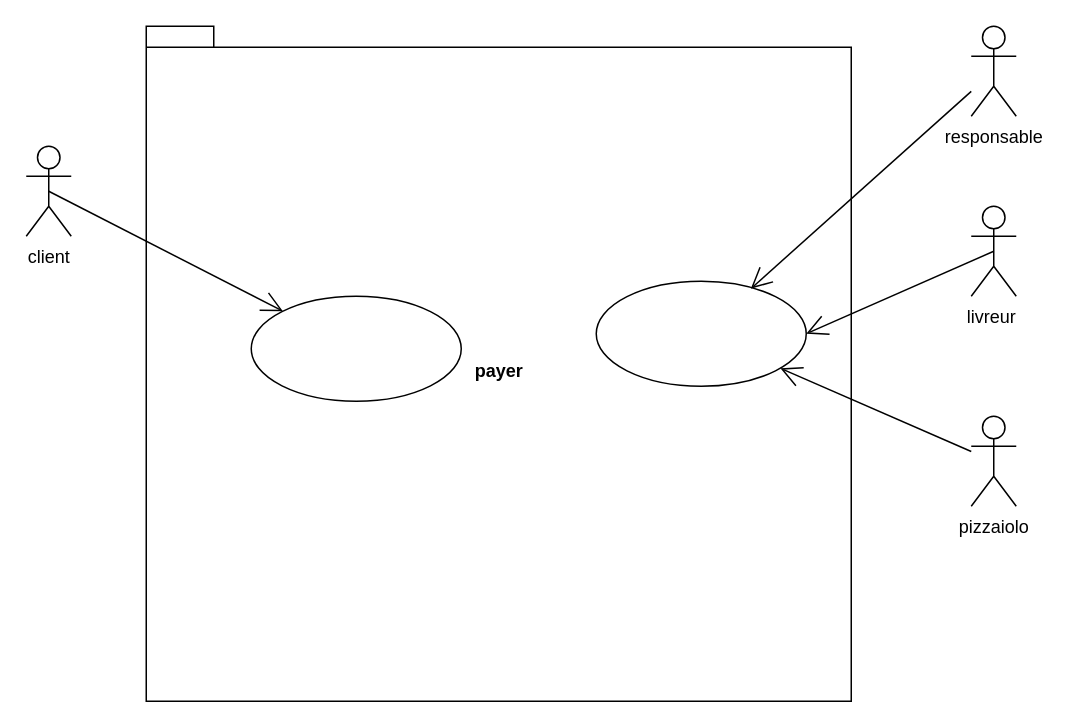
Image size: 1068x728. Some labels were removed from this diagram. The shapes that lost their labels are listed below. From the top down, each one's centre as x and y in pixels, then its label:
At point (355, 348): "payer en ligne".
At point (700, 333): "faire payer sur place".
